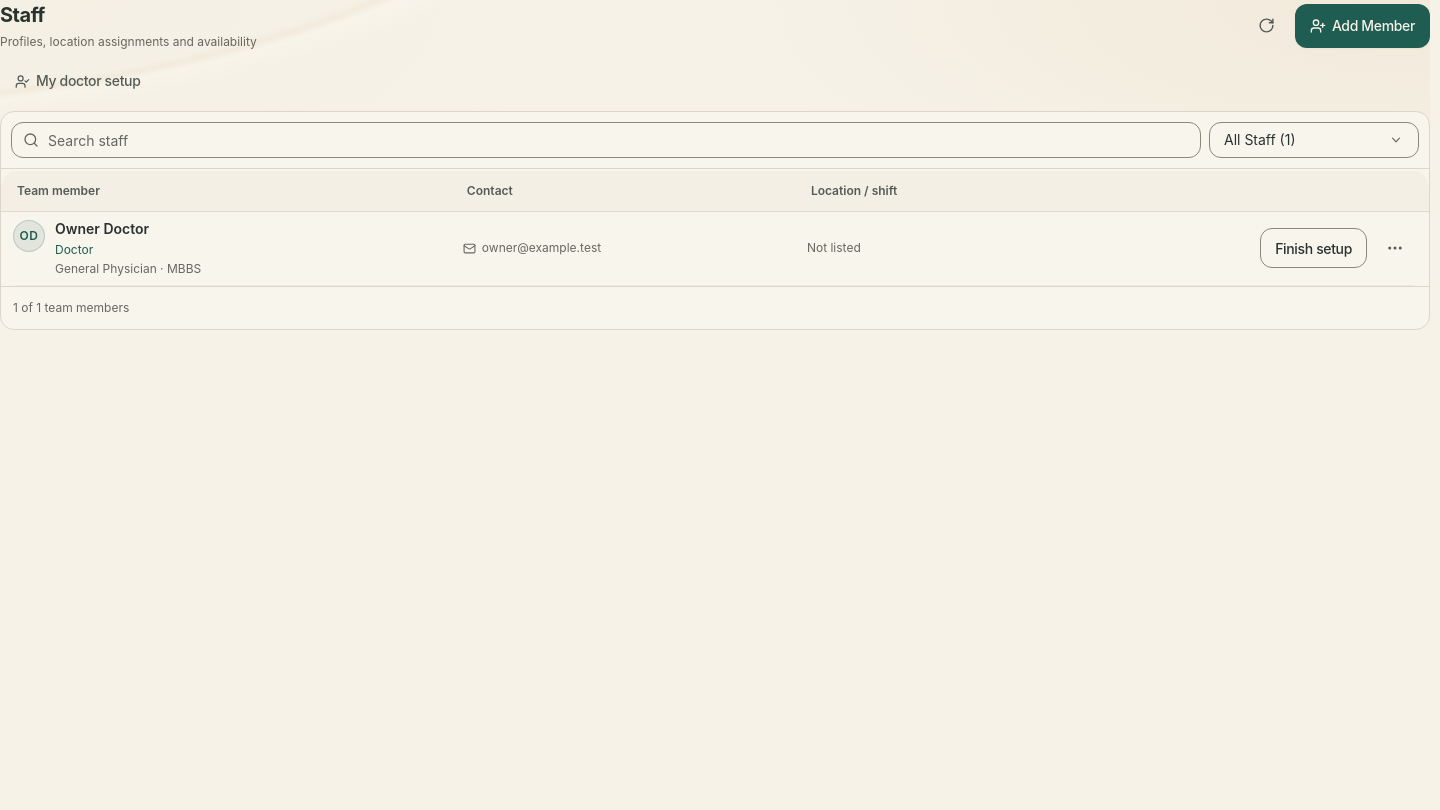
it: Guided doctor setup › requires a branch choice when more than one location is available
The width and height of the screenshot is (1440, 810).
What coordinates should you click on to do the following:
click the button "My doctor setup"
I would click on:
 (78, 81)
Its box is [0,63,155,99].
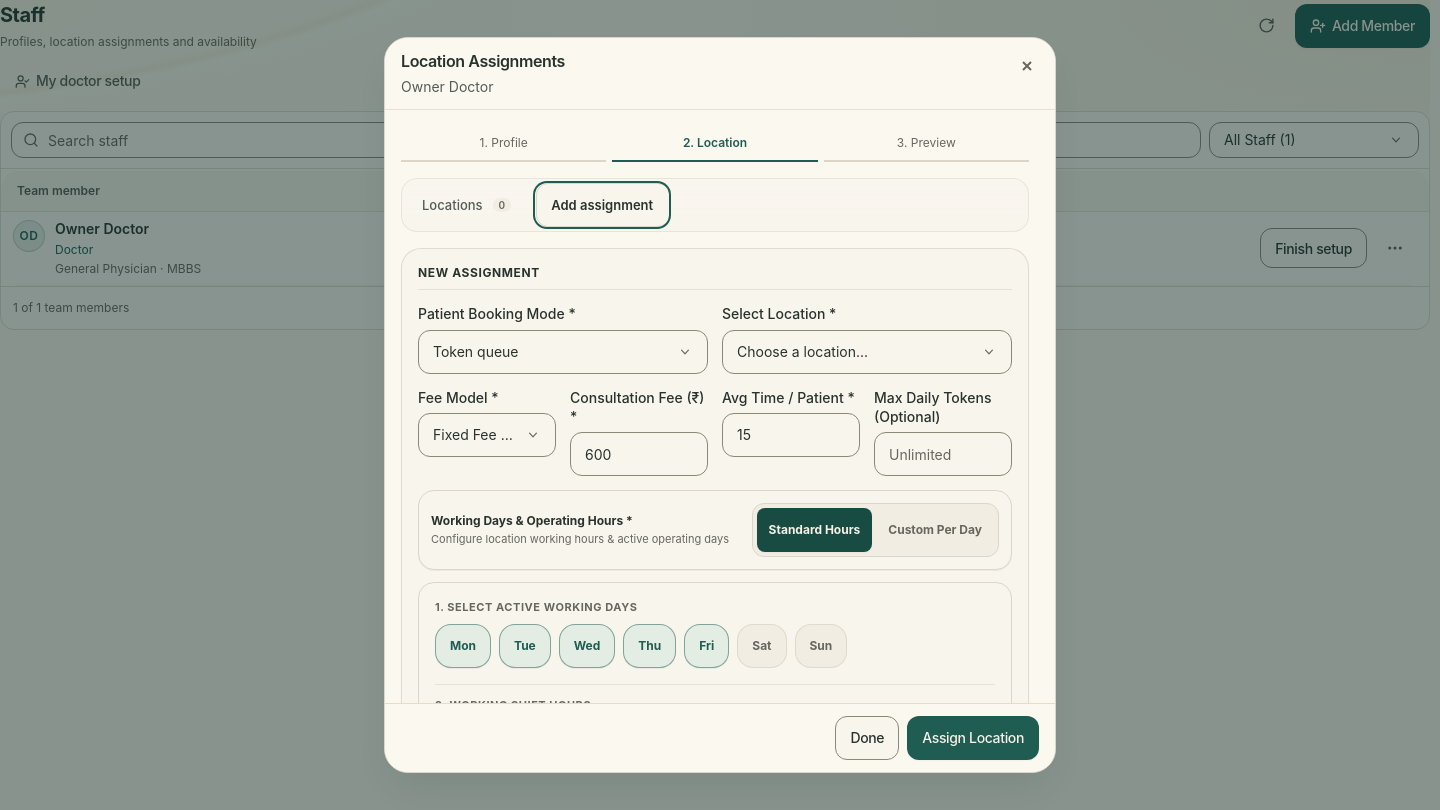
Expected: the dropdown named "Select Location *" reads "Choose a location...", [722,330,1012,374]
